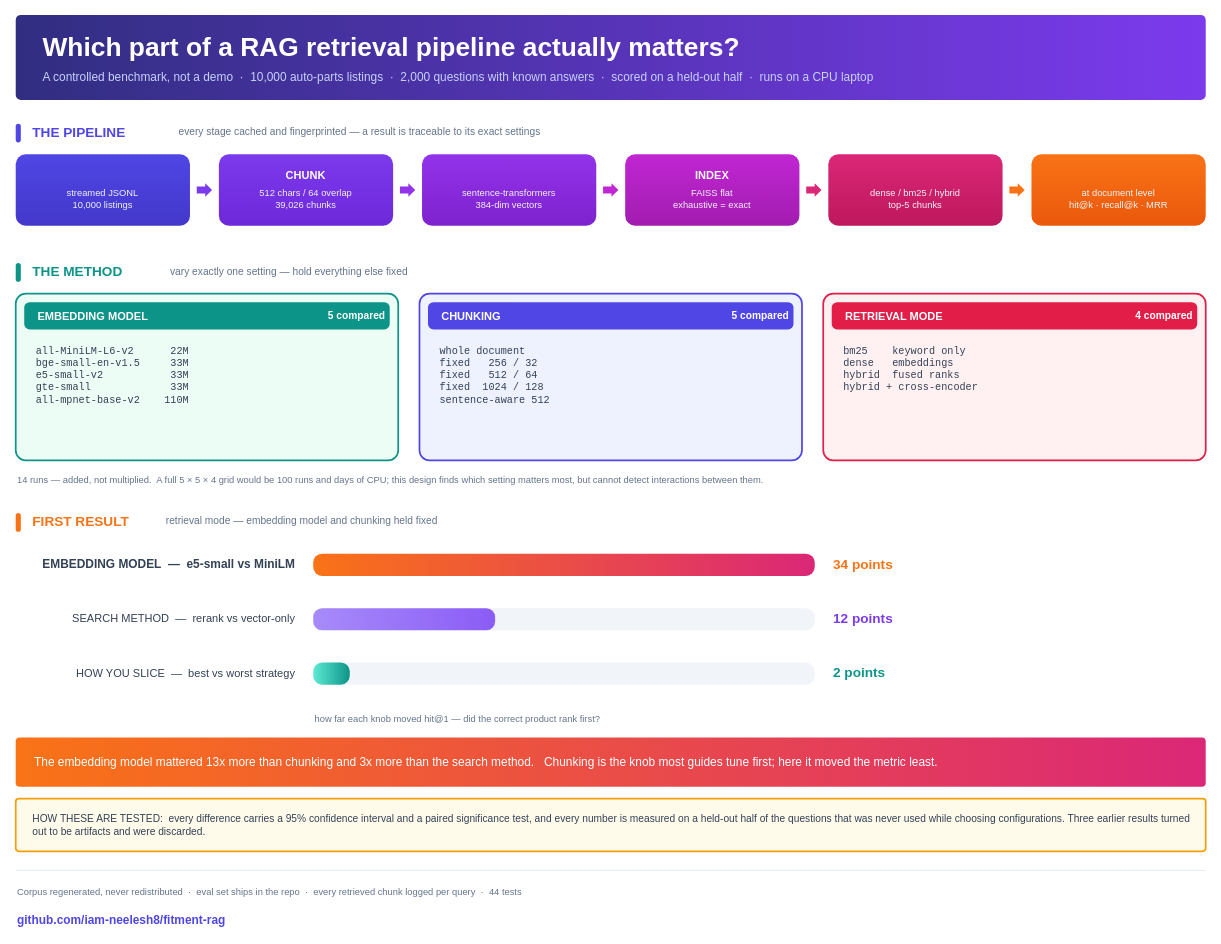
Some shapes in this 1221 by 944 pixel diagram are drawn without their labels. The shapes that lost their labels are listed below. From the top down, each one's box as (x1, y1, x2, y2) in pixels, then its label:
(15, 154, 190, 225): CORPUS
(422, 154, 596, 225): EMBED
(828, 154, 1002, 225): RETRIEVE
(1031, 154, 1205, 225): SCORE
